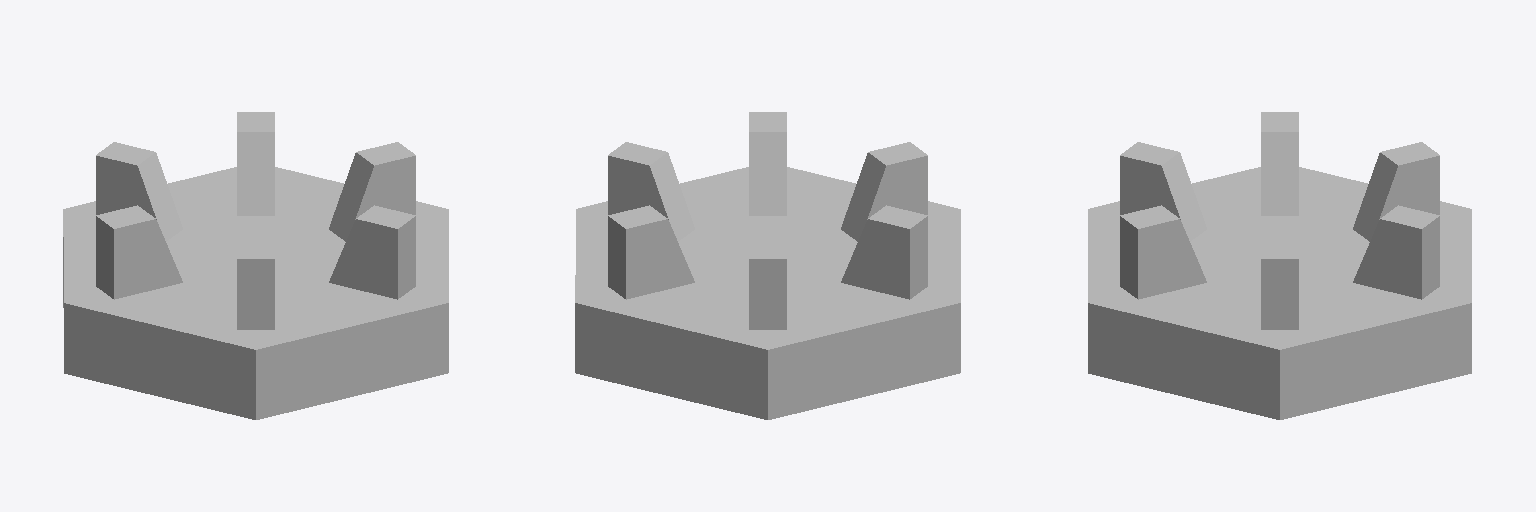
Rendered from HoneyCombPiece_Lid.obj.
3 views of the same model, side by side, from view 1: azimuth 30°, elevation 25°; view 2: azimuth 150°, elevation 25°; view 3: azimuth 270°, elevation 25° (orthographic).
Visible parts, largest first — view 1: lid_Curve.006; view 2: lid_Curve.006; view 3: lid_Curve.006.
Boxes of the visible parts, x1,y1,x2,y2 form: lid_Curve.006: [63, 112, 448, 419]; lid_Curve.006: [575, 112, 960, 419]; lid_Curve.006: [1088, 112, 1471, 419].
Size of the model in its own units: 0.03 by 0.0105 by 0.026.